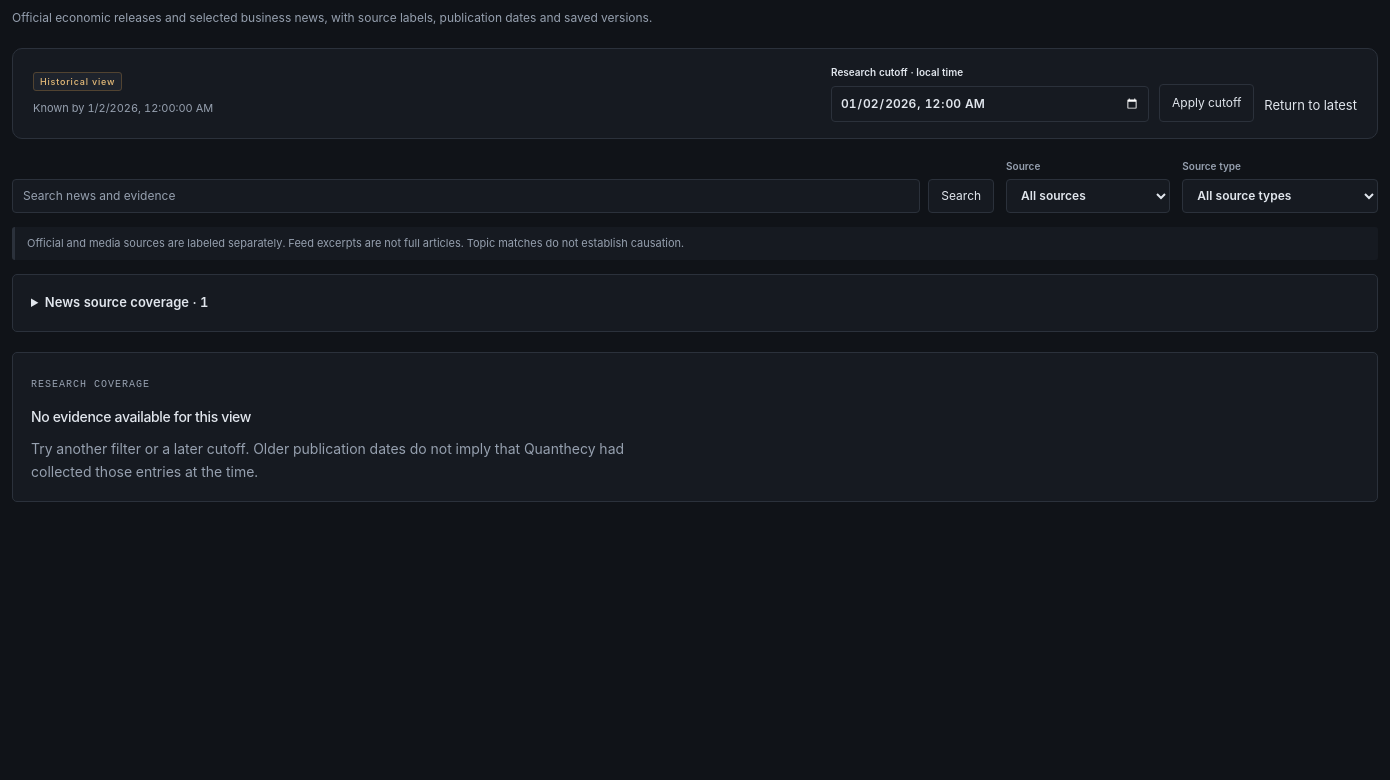
Test: filters media sources and shows current collection problems separately from history
Select "Media" in the dropdown labelled "Source type" at (1280, 196), box top-left (1182, 179), bottom-right (1378, 213)
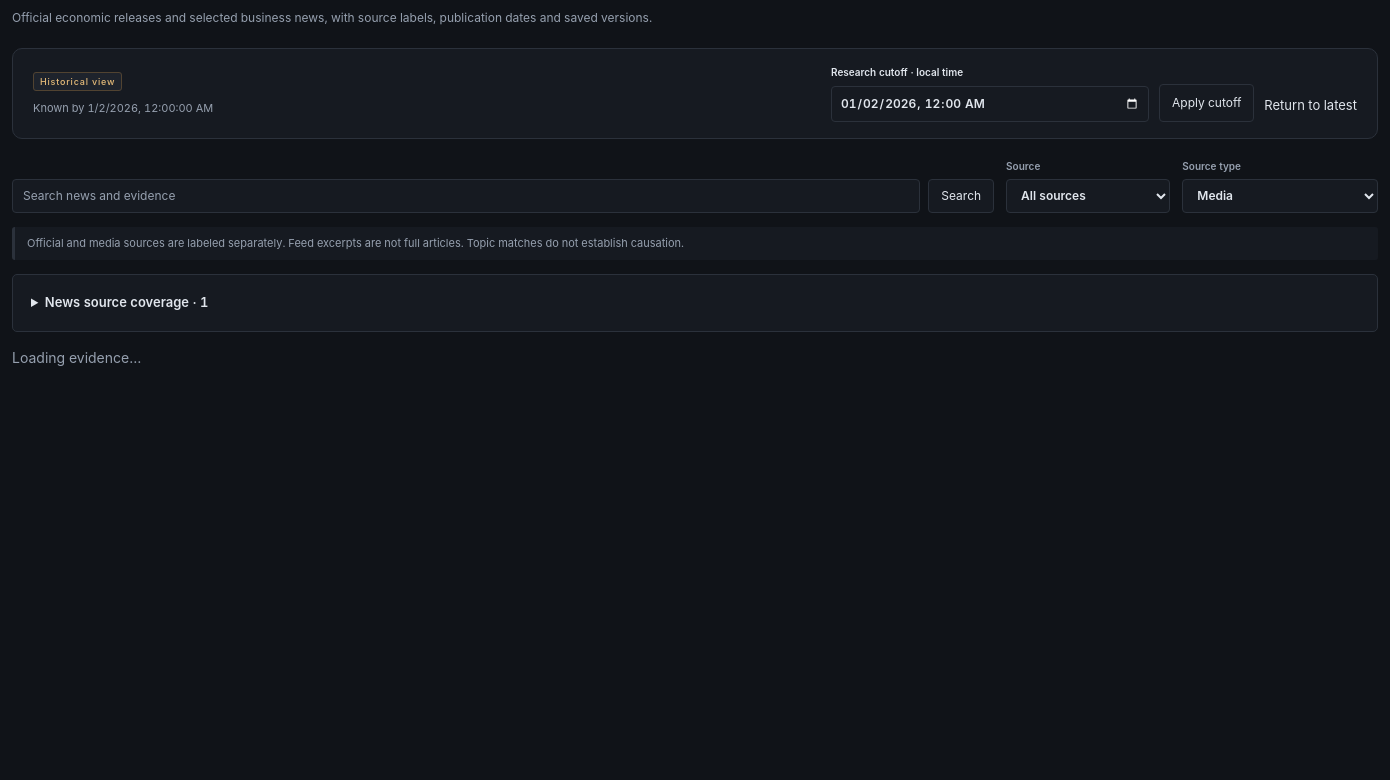
Click the heading "News source coverage · 1".
click(127, 302)  # box top-left (45, 294), bottom-right (209, 310)
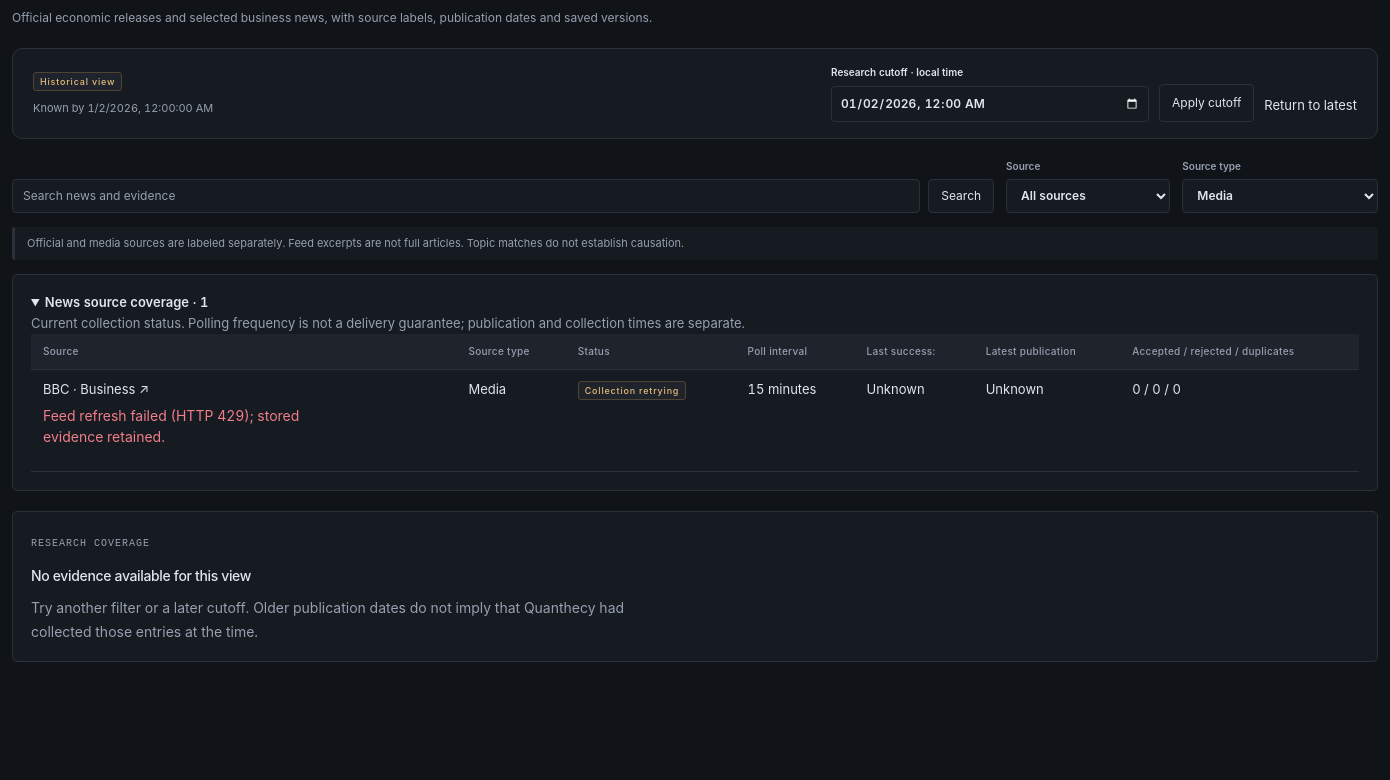
Result: the text "Collection retrying" is shown at top-left (578, 381), bottom-right (686, 400)
Result: the text "Current collection status" is shown at top-left (31, 315), bottom-right (745, 331)
Result: the text "15 minutes" is shown at top-left (736, 370), bottom-right (855, 472)
